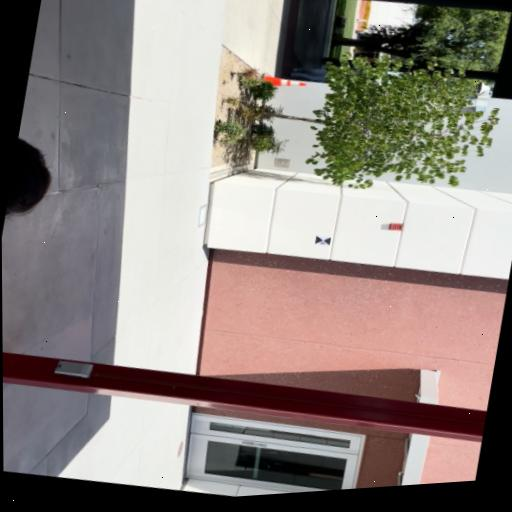target6: (314, 234, 330, 246)
